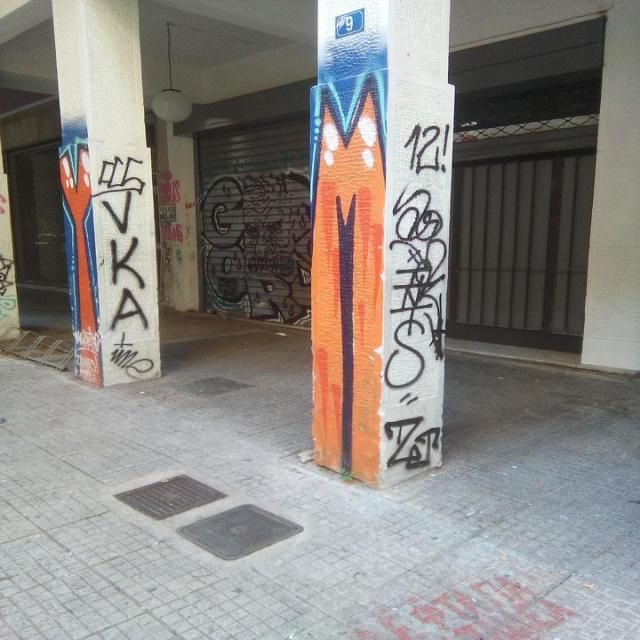nonspitting: (310, 41, 386, 487), (206, 174, 313, 326), (94, 155, 154, 380), (382, 187, 444, 404), (54, 137, 100, 382), (384, 414, 440, 470), (402, 120, 448, 176)
